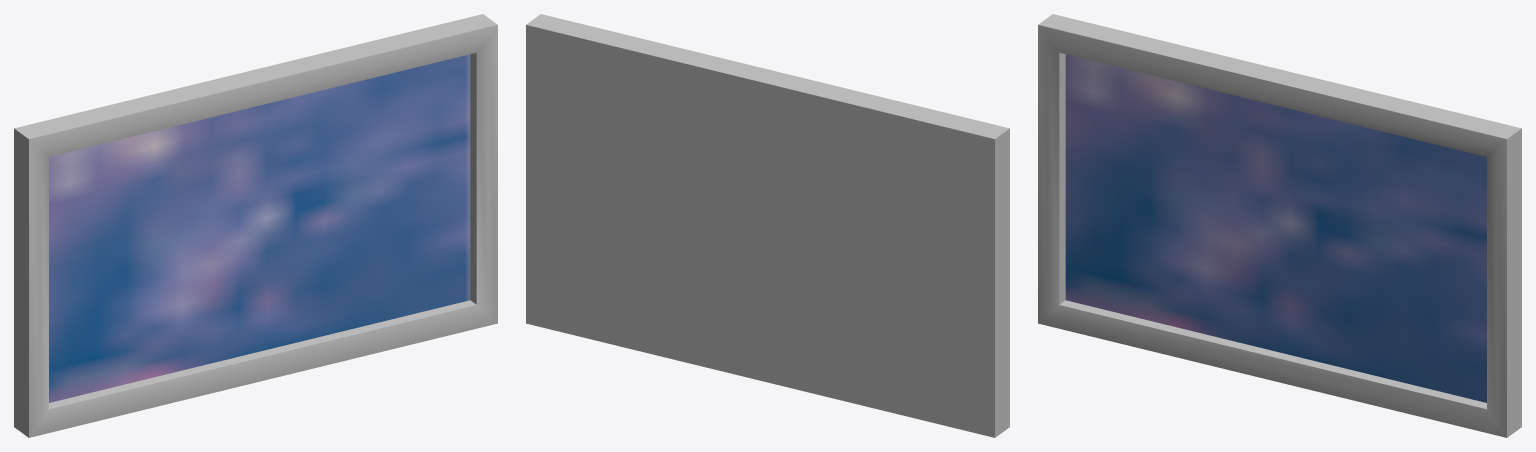
The model's file is SM_Photo_5.fbx.
3 views of the same model, side by side, from view 1: azimuth 30°, elevation 25°; view 2: azimuth 150°, elevation 25°; view 3: azimuth 330°, elevation 25° (orthographic).
Visible parts, largest first — view 1: canvas, frame, canvas1; view 2: frame; view 3: canvas, canvas1, frame.
Part boxes in pixels (box(x1,y1,x2,y2)): canvas: box(49, 54, 470, 402); frame: box(14, 14, 497, 437); canvas1: box(49, 55, 469, 400); frame: box(526, 14, 1009, 437); canvas: box(1065, 54, 1486, 402); canvas1: box(1065, 55, 1486, 402); frame: box(1038, 14, 1521, 437).
Size of the model in its own units: 1.99 by 1.21 by 0.1154.
